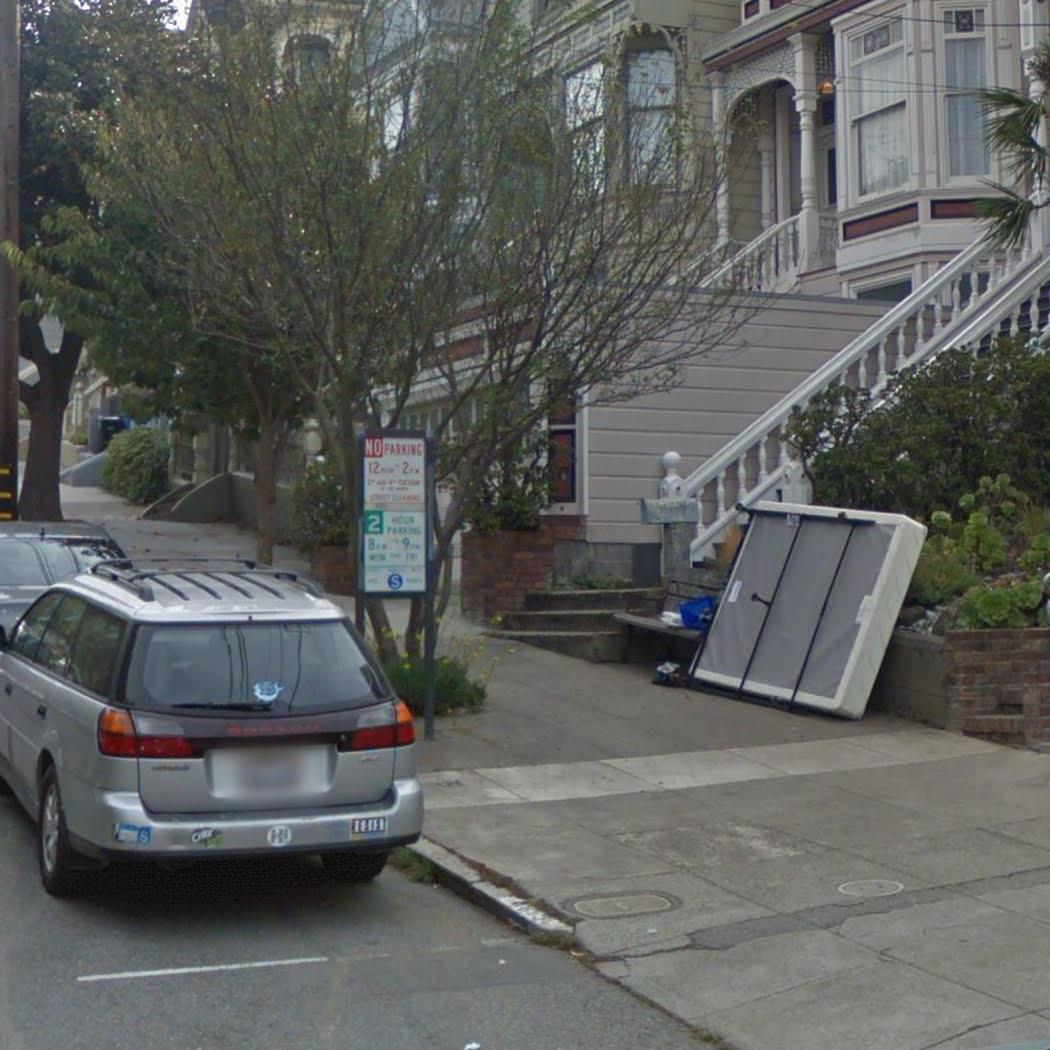2 Hour Parking: (361, 509, 431, 593)
No Parking: (362, 431, 431, 512)
